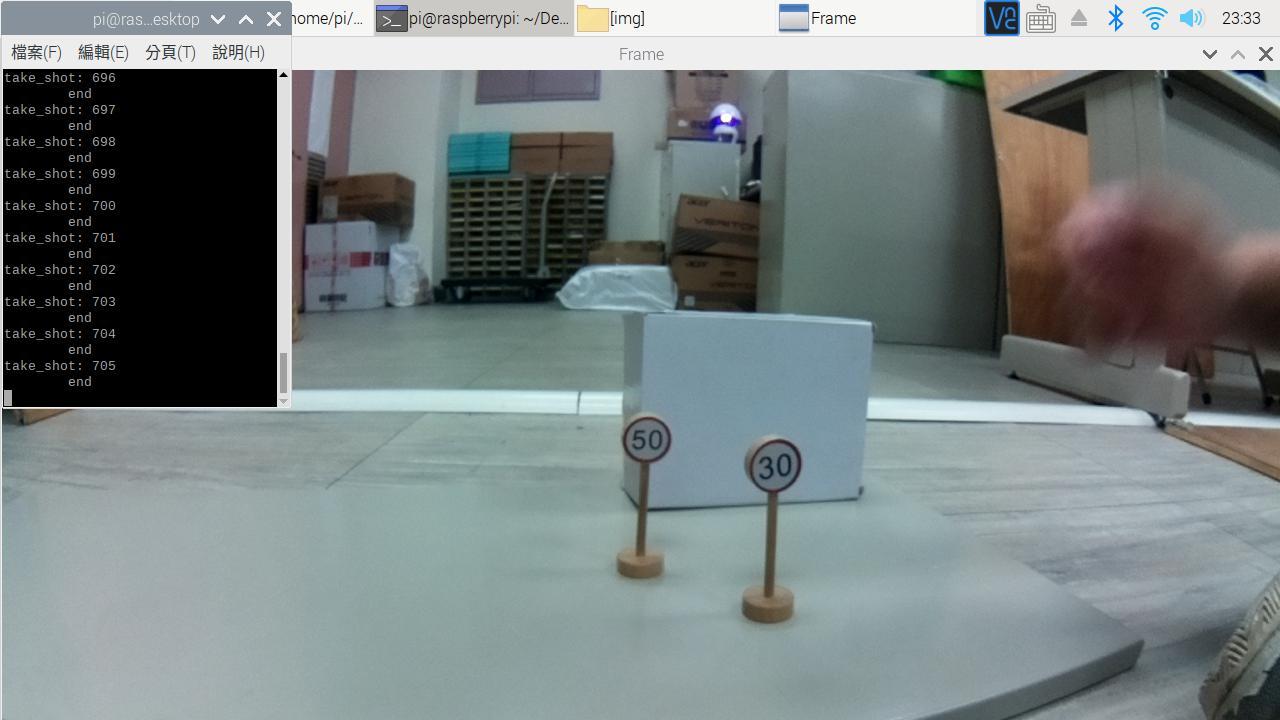Speed30: (738, 427, 817, 496)
Speed50: (611, 409, 682, 474)
